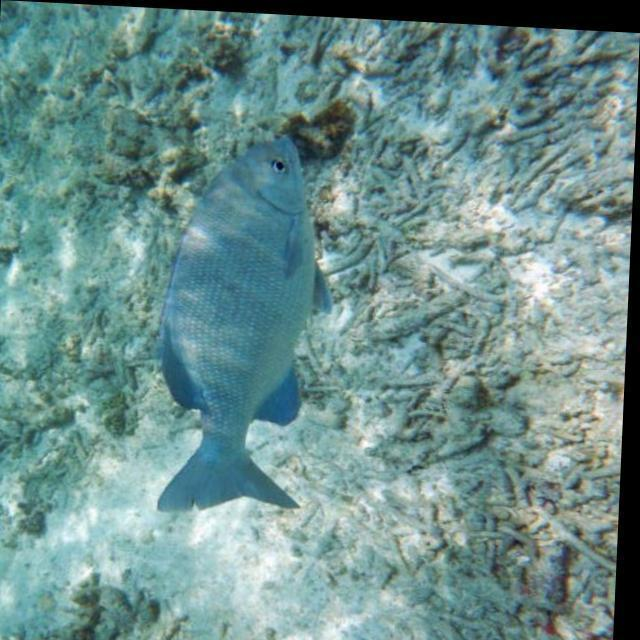Dead Coral: (339, 78, 601, 622), (0, 73, 176, 523)
